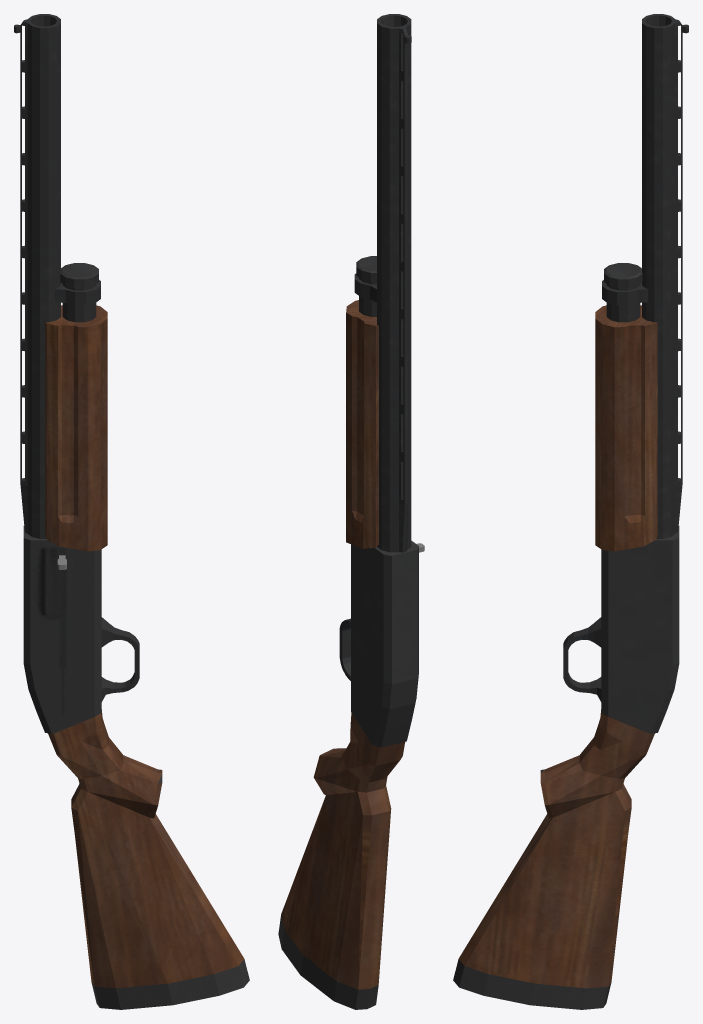
File: shotgunsemi.fbx
The picture shows the model from 3 angles, left to right: view 1: azimuth 90°, elevation 25°; view 2: azimuth 210°, elevation 25°; view 3: azimuth 270°, elevation 25°; orthographic projection. The views are drawn at different scales.
Visible parts, largest first — view 1: shotgunsemi.x_Root_shotgunsemi.001; view 2: shotgunsemi.x_Root_shotgunsemi.001; view 3: shotgunsemi.x_Root_shotgunsemi.001.
Boxes of the visible parts, bbox=[...] form: shotgunsemi.x_Root_shotgunsemi.001: bbox=[14, 14, 249, 1009]; shotgunsemi.x_Root_shotgunsemi.001: bbox=[278, 14, 424, 1009]; shotgunsemi.x_Root_shotgunsemi.001: bbox=[453, 14, 688, 1009].
Size of the model in its own units: 0.0437 by 0.6394 by 0.1391.
